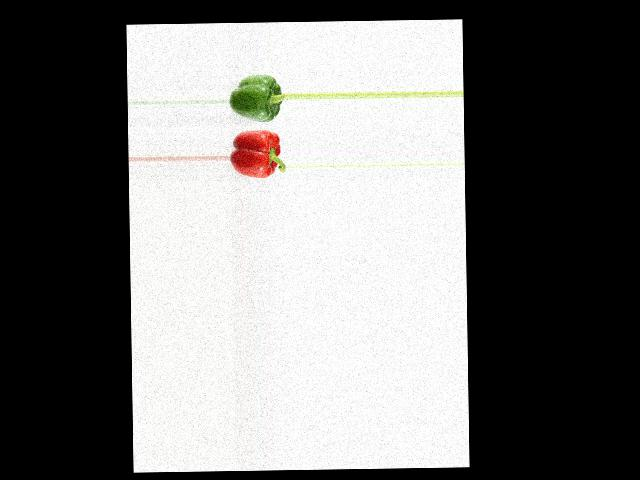bell_pepper: (231, 72, 284, 124)
